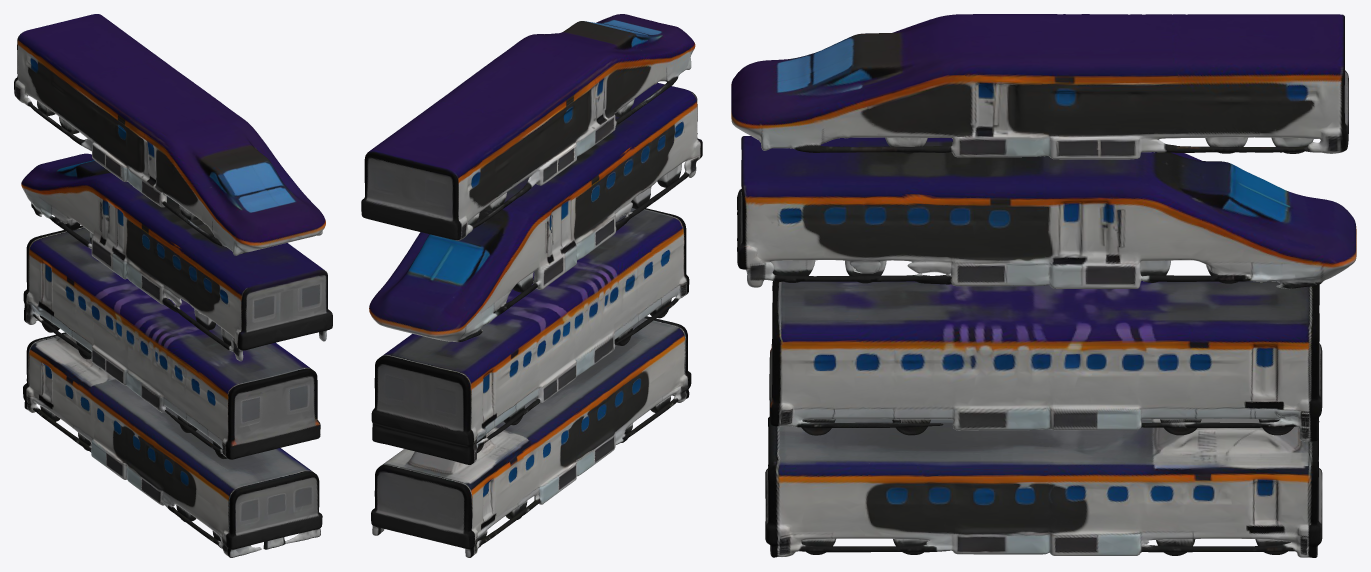
The model's file is E8_Shinkansen.glb.
3 renders of one model, left to right at view 1: azimuth 30°, elevation 25°; view 2: azimuth 150°, elevation 25°; view 3: azimuth 270°, elevation 25°, orthographic. The views are drawn at different scales.
Parts seen in each view (by area): view 1: tripo_node_ddd8a2ae-d21e-4d62-a16a-d660c4866177; view 2: tripo_node_ddd8a2ae-d21e-4d62-a16a-d660c4866177; view 3: tripo_node_ddd8a2ae-d21e-4d62-a16a-d660c4866177.
Boxes of the visible parts, x1,y1,x2,y2 form: tripo_node_ddd8a2ae-d21e-4d62-a16a-d660c4866177: (14, 14, 332, 557); tripo_node_ddd8a2ae-d21e-4d62-a16a-d660c4866177: (361, 14, 702, 557); tripo_node_ddd8a2ae-d21e-4d62-a16a-d660c4866177: (731, 14, 1356, 557).
Bounding box in the file's own units: 0.9251 × 3.5 × 4.
Materials: 1 (1 with a texture image).
